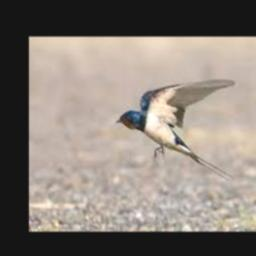Swallow: (116, 78, 235, 180)
